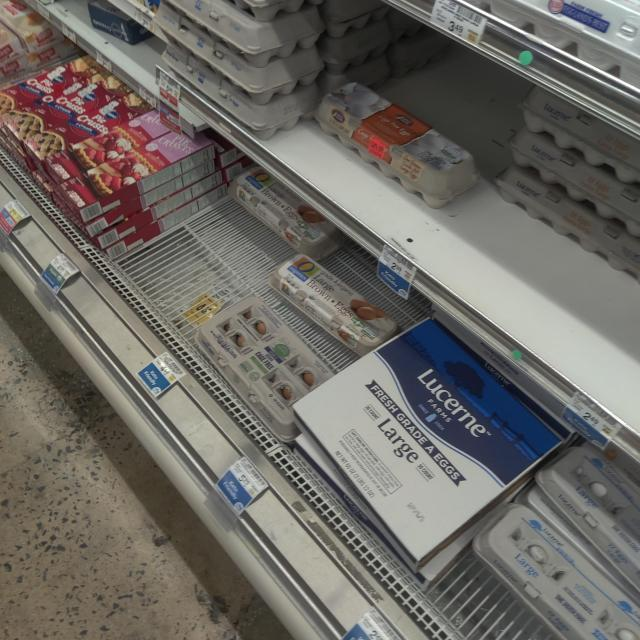Eggs: (483, 449, 640, 640), (310, 68, 469, 212), (193, 284, 312, 426), (261, 244, 408, 346)
